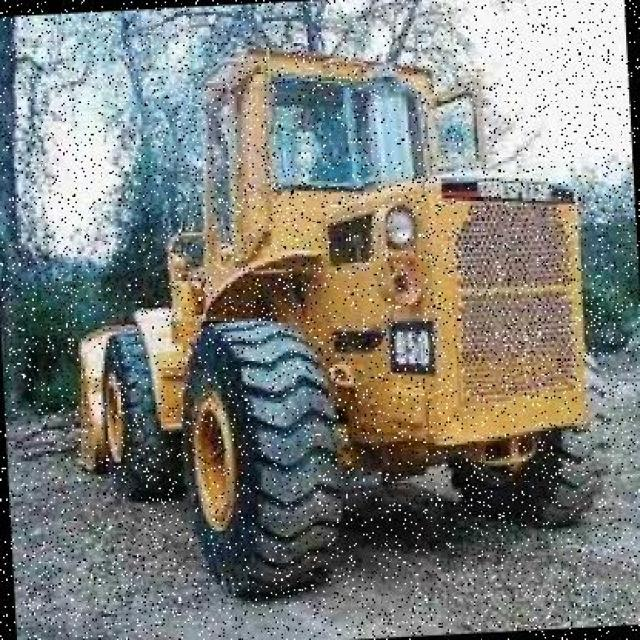buldozerpayloadergrader: (59, 34, 622, 600)
